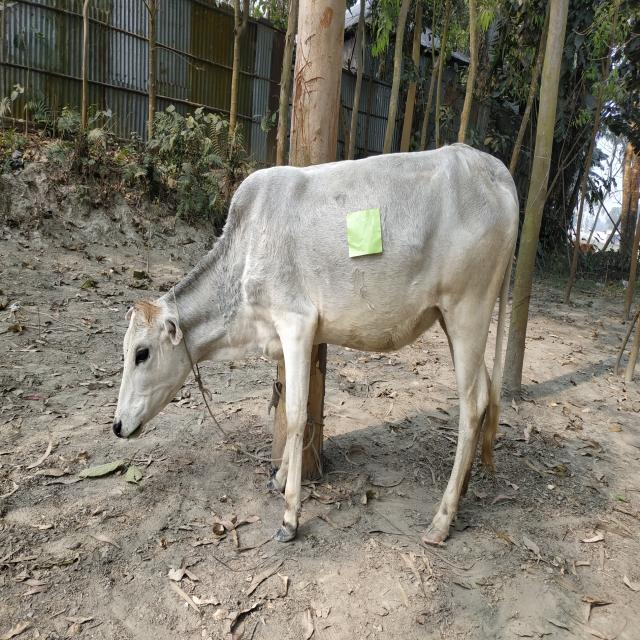badan_sapi: (271, 142, 513, 361)
sapi: (110, 135, 522, 549)
